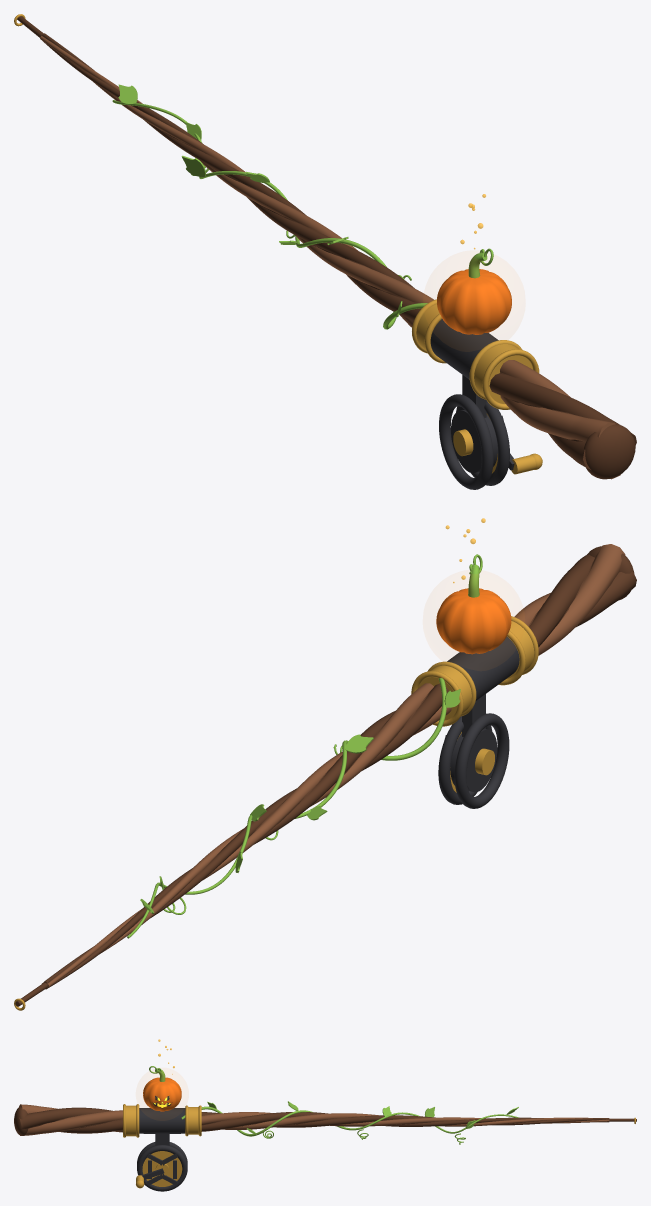
The model's file is ROD_PUMPKIN.glb.
3 views of the same model, one above another, from view 1: azimuth 30°, elevation 25°; view 2: azimuth 150°, elevation 25°; view 3: azimuth 270°, elevation 25° (orthographic). The views are drawn at different scales.
Visible parts, largest first — view 1: Shaft_Strand (×4), Pumpkin, Reel_Rim (×2), Butt_Knot, ReelSeat, Vine, Reel_Spool, SeatBand, Handle, SeatBand_Lip; view 2: Shaft_Strand (×4), Pumpkin, Reel_Rim (×2), ReelSeat, Vine, Reel_Spool, Handle, SeatBand; view 3: Shaft_Strand (×4), ReelSeat, Pumpkin, Reel_Rim, Vine, SeatBand (×2), Reel_Plate, Handle, Butt_Knot.
Part boxes in pixels (box(x1,y1,x2,y2)): Shaft_Strand (×4): box(40, 33, 636, 479); Pumpkin: box(437, 269, 511, 334); Reel_Rim (×2): box(439, 394, 509, 489); Butt_Knot: box(584, 424, 635, 479); ReelSeat: box(430, 319, 498, 379); Vine: box(112, 100, 427, 329); Reel_Spool: box(451, 410, 497, 473); SeatBand: box(474, 344, 532, 403); Handle: box(17, 16, 582, 441); SeatBand_Lip: box(482, 349, 539, 409); Shaft_Strand (×4): box(42, 544, 636, 989); Pumpkin: box(436, 588, 511, 654); Reel_Rim (×2): box(438, 713, 509, 808); ReelSeat: box(447, 636, 519, 700); Vine: box(127, 678, 446, 938); Reel_Spool: box(450, 729, 497, 792); Handle: box(15, 562, 612, 1006); SeatBand: box(418, 665, 471, 720); Shaft_Strand (×4): box(19, 1104, 609, 1135); ReelSeat: box(139, 1108, 185, 1133); Pumpkin: box(143, 1077, 181, 1111); Reel_Rim: box(137, 1145, 187, 1191); Vine: box(181, 1106, 518, 1136); SeatBand (×2): box(126, 1105, 198, 1136); Reel_Plate: box(142, 1151, 182, 1186); Handle: box(35, 1113, 636, 1128); Butt_Knot: box(14, 1106, 27, 1135).
Size of the model in its own units: 0.608 by 1.83 by 6.98.
